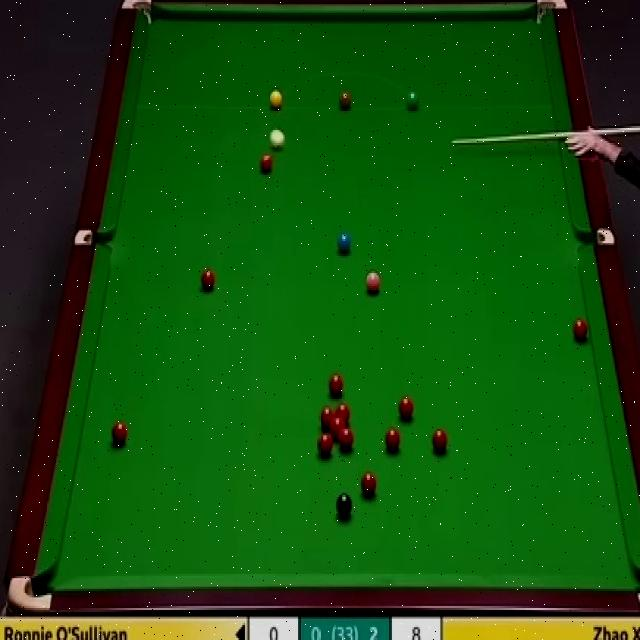black-ball: (335, 491, 352, 519)
blue-ball: (337, 230, 351, 258)
brown-ball: (338, 90, 352, 110)
green-ball: (406, 90, 420, 110)
pink-ball: (364, 270, 381, 294)
red-ball: (429, 427, 450, 456), (397, 392, 414, 423), (384, 426, 401, 457), (362, 468, 377, 499), (111, 420, 127, 448), (334, 402, 351, 427), (328, 374, 345, 399), (573, 317, 588, 345), (317, 433, 333, 459), (202, 266, 216, 294), (320, 405, 335, 431), (338, 427, 354, 451), (258, 153, 274, 175), (331, 418, 346, 440)
white-ball: (268, 128, 286, 154)
yellow-ball: (268, 90, 283, 110)
